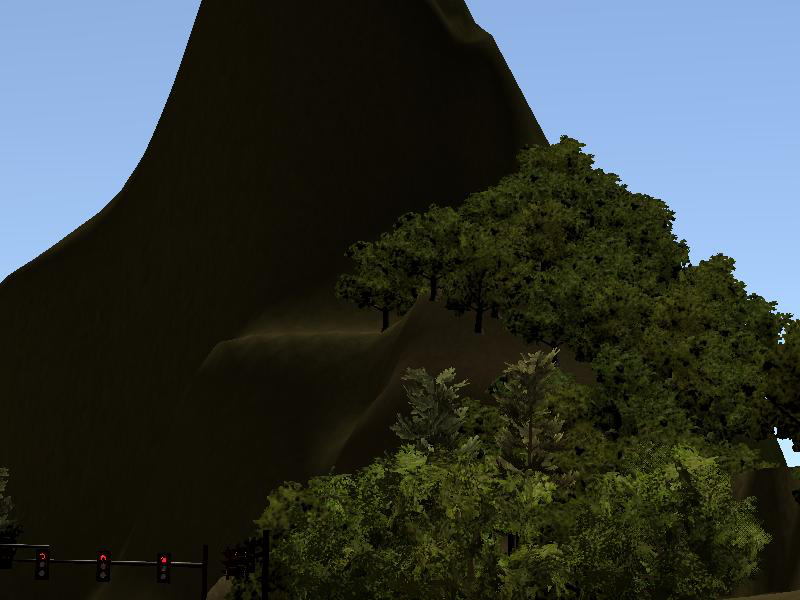red: (155, 549, 172, 584), (35, 547, 51, 579), (97, 547, 110, 580)
